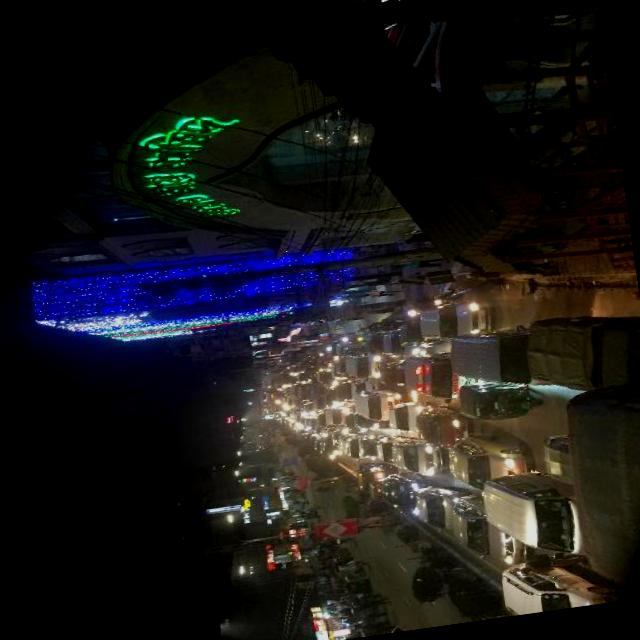bus: (560, 384, 640, 605), (288, 382, 318, 403), (261, 389, 284, 402), (274, 373, 290, 386)
car: (524, 305, 640, 400), (498, 550, 618, 617), (447, 488, 527, 572), (446, 429, 529, 495), (416, 297, 494, 345), (412, 401, 468, 454), (414, 483, 460, 535), (390, 435, 442, 481), (380, 472, 420, 520), (386, 399, 430, 434), (380, 327, 424, 361), (374, 436, 398, 466), (345, 434, 370, 462), (344, 410, 366, 436), (353, 415, 385, 432), (349, 378, 379, 396), (331, 548, 352, 570), (334, 380, 353, 402), (329, 364, 343, 382), (335, 434, 349, 452), (320, 369, 332, 386), (328, 392, 338, 408), (304, 506, 316, 519), (315, 370, 321, 382), (307, 418, 314, 428), (303, 418, 308, 427)
motorcycle: (456, 376, 543, 426), (542, 434, 570, 487), (396, 318, 438, 351), (342, 572, 371, 595), (376, 362, 397, 386), (350, 602, 378, 620), (358, 437, 380, 459), (362, 335, 382, 355), (368, 481, 384, 504), (337, 562, 358, 577), (341, 344, 364, 356), (334, 343, 346, 357), (333, 360, 345, 374), (306, 517, 321, 528)
truck: (481, 466, 583, 568), (446, 325, 540, 399), (400, 348, 476, 404), (352, 387, 402, 426), (343, 351, 382, 383), (353, 461, 387, 494), (325, 406, 353, 428), (310, 395, 330, 412), (314, 414, 330, 431)
